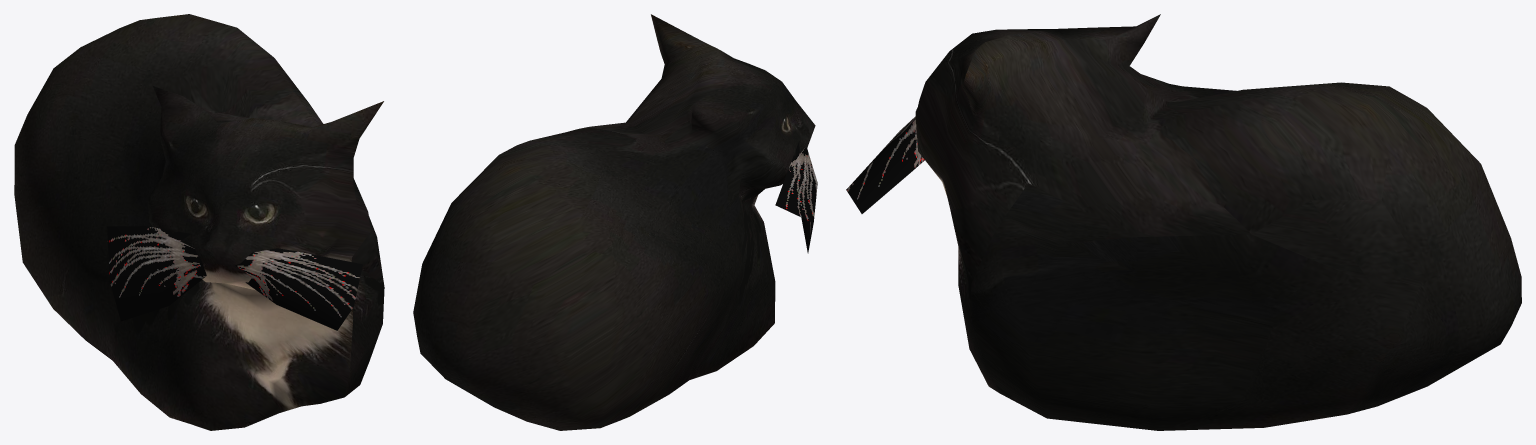
File: cat.fbx
3 renders of one model, left to right at view 1: azimuth 30°, elevation 25°; view 2: azimuth 150°, elevation 25°; view 3: azimuth 270°, elevation 25°, orthographic. The views are drawn at different scales.
Parts seen in each view (by area): view 1: dingus; view 2: dingus; view 3: dingus.
Part boxes in pixels (x1=…): dingus: x1=14, y1=14, x2=384, y2=430; dingus: x1=413, y1=14, x2=817, y2=430; dingus: x1=846, y1=14, x2=1521, y2=430.
Bounding box in the file's own units: 2532 × 2595 × 4488.
Materials: 2 (2 with a texture image).
